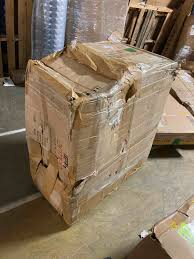damaged package: (64, 46, 124, 79), (53, 167, 84, 194), (68, 91, 98, 115), (37, 143, 52, 169), (125, 84, 139, 103)
